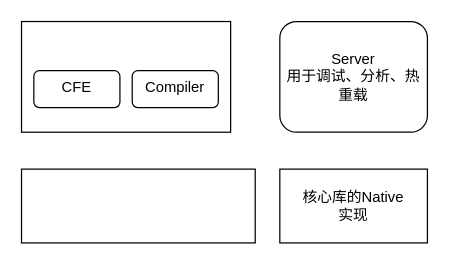
Some shapes in this 449 by 264 pixel diagram are drawn without their labels. The box of each missing label's shape, as (x1, y1, x2, y2) in pixels:
JIT/AOT 编译管道: (20, 20, 231, 132)
Runtime(运行时) 包括对象模型、垃圾收集、快照: (20, 168, 255, 243)
